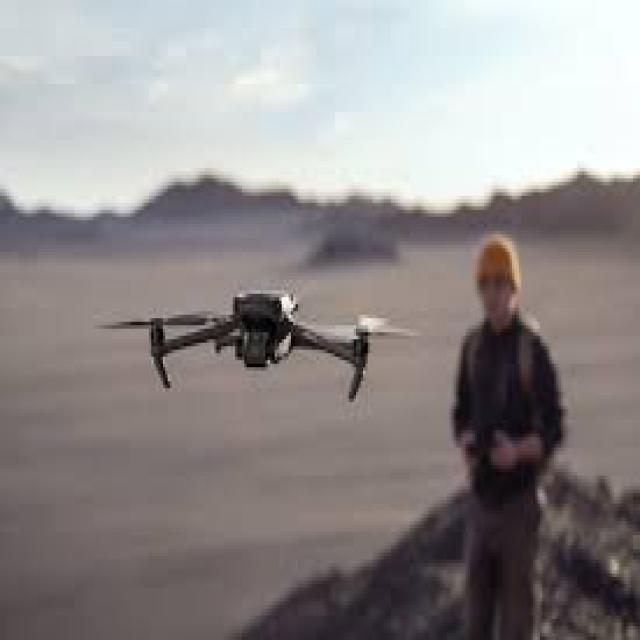drone: (125, 280, 404, 428)
